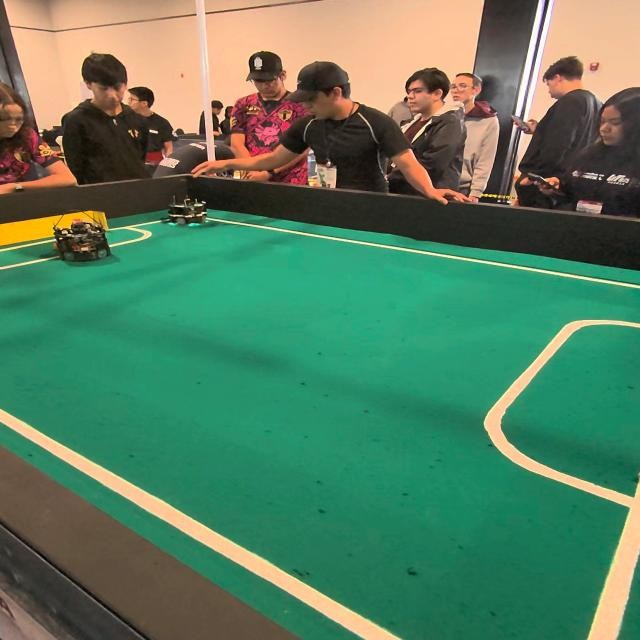Robot: (50, 207, 113, 265), (164, 178, 214, 234)
